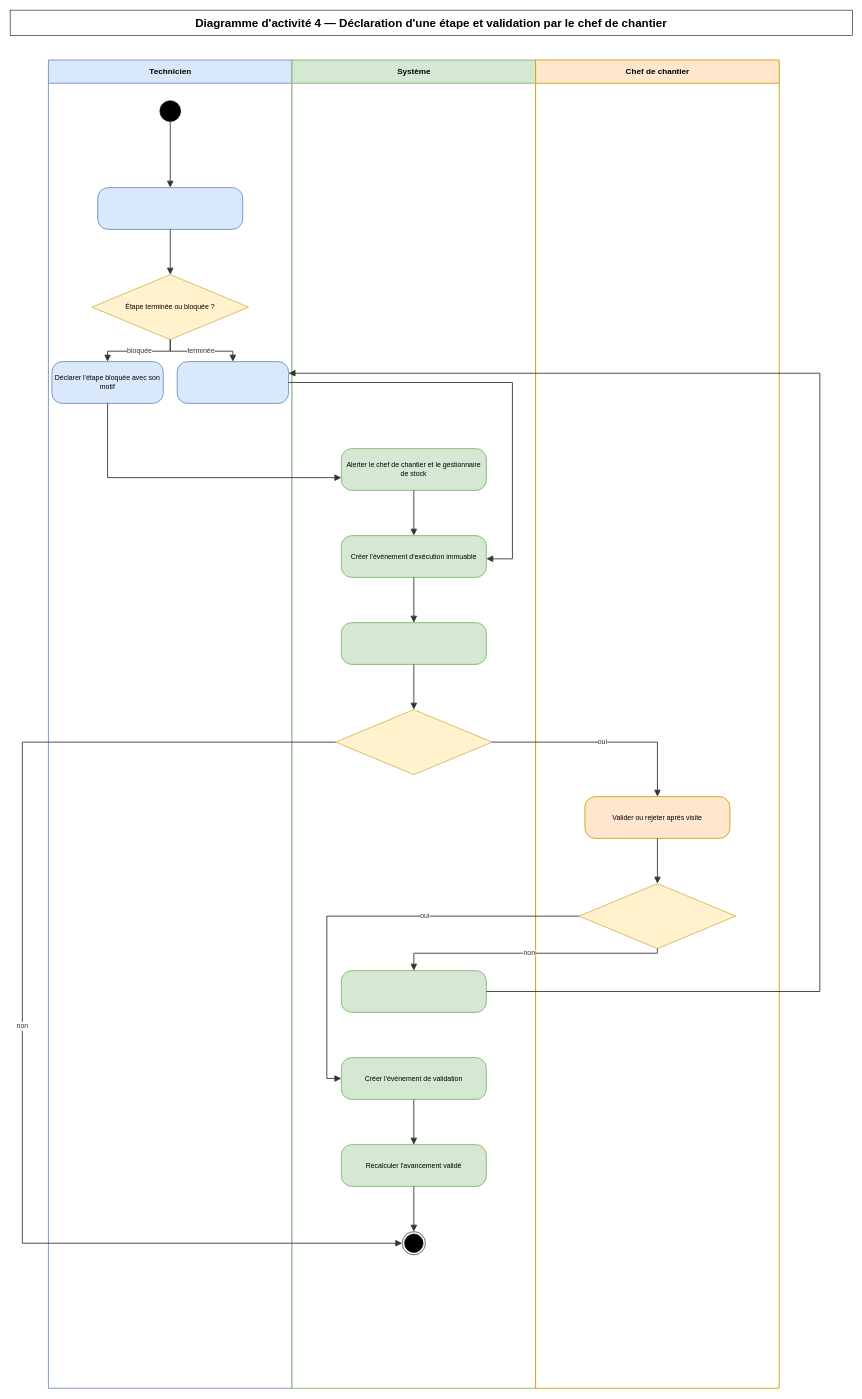
This 862x1399 diagram has some shape labels left out. Each missing label, with the centre of its shape:
"Cocher l'étape terminée" goes at point (232, 382).
"Ouvrir sa fiche de route" goes at point (170, 208).
"Recalculer l'avancement déclaré" goes at point (414, 643).
"Retour au statut « en cours » avec le motif" goes at point (414, 991).
"Validation acceptée ?" goes at point (657, 916).
"Étape marquée « à contrôle » ?" goes at point (413, 742).
